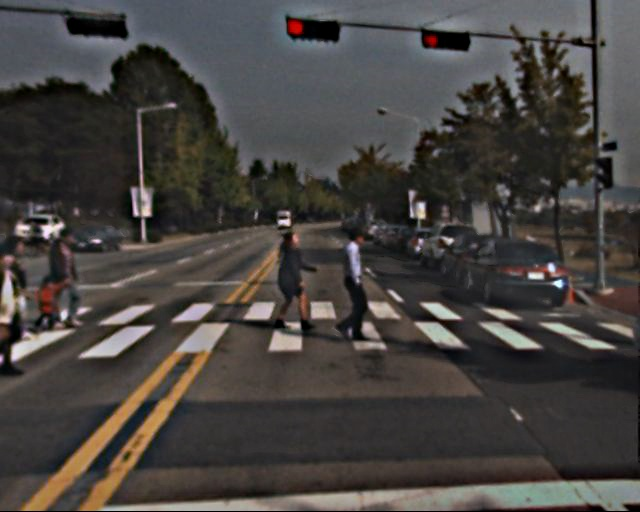person: (332, 225, 380, 343), (266, 224, 311, 334), (47, 229, 87, 327)
